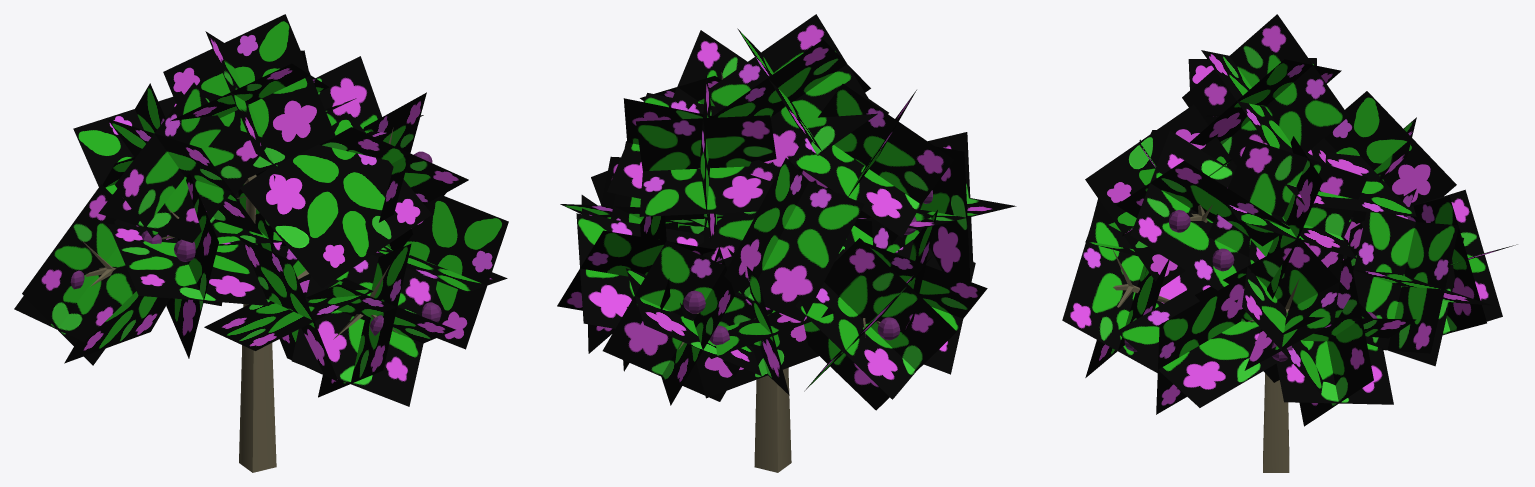
Rendered from Sim_2.fbx.
The picture shows the model from 3 angles, left to right: view 1: azimuth 30°, elevation 25°; view 2: azimuth 150°, elevation 25°; view 3: azimuth 270°, elevation 25°; orthographic projection. The views are drawn at different scales.
Visible parts, largest first — view 1: Bush_LOD0, Branch_LOD0, Berry_LOD0; view 2: Bush_LOD0, Branch_LOD0, Berry_LOD0; view 3: Bush_LOD0, Branch_LOD0, Berry_LOD0.
Boxes of the visible parts, x1,y1,x2,y2 form: Bush_LOD0: [14, 14, 508, 406]; Branch_LOD0: [81, 127, 399, 472]; Berry_LOD0: [70, 151, 441, 335]; Bush_LOD0: [557, 14, 1016, 410]; Branch_LOD0: [679, 72, 880, 472]; Berry_LOD0: [683, 190, 932, 345]; Bush_LOD0: [1062, 14, 1517, 426]; Branch_LOD0: [1112, 205, 1299, 472]; Berry_LOD0: [1124, 210, 1377, 361].
Size of what is drawn, in the model's own units: 474 by 479 by 481.
